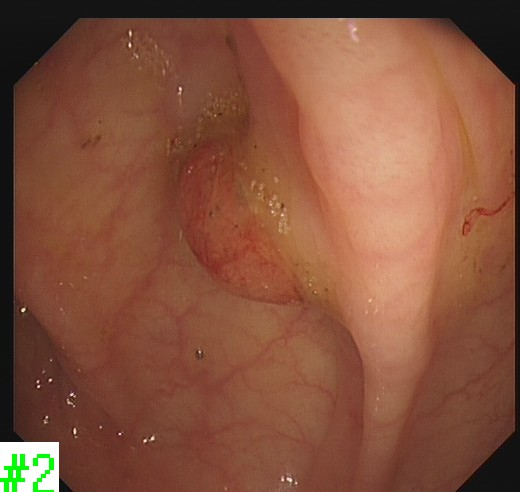adenoma: (172, 135, 319, 310)
